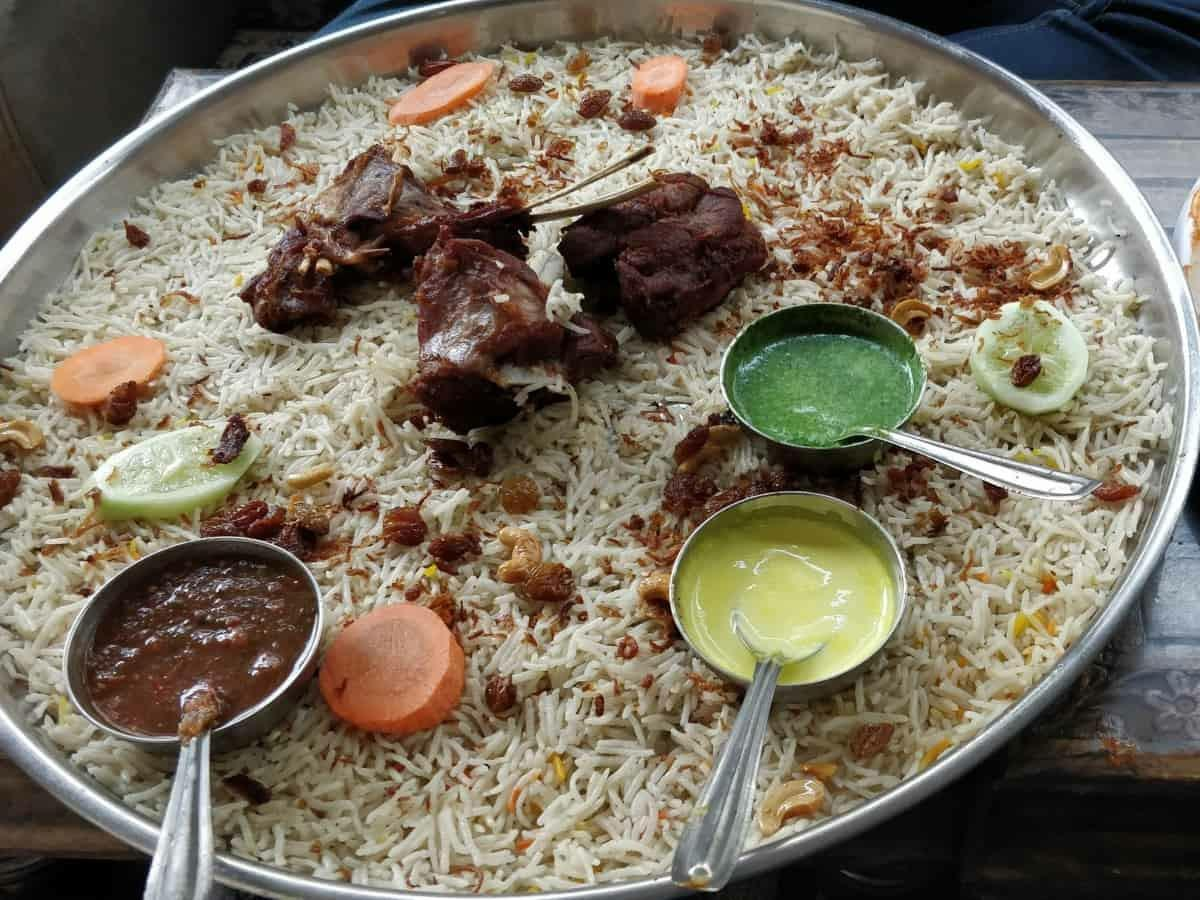Biryani: (3, 0, 1174, 900)
GreenChutney: (725, 330, 909, 446)
